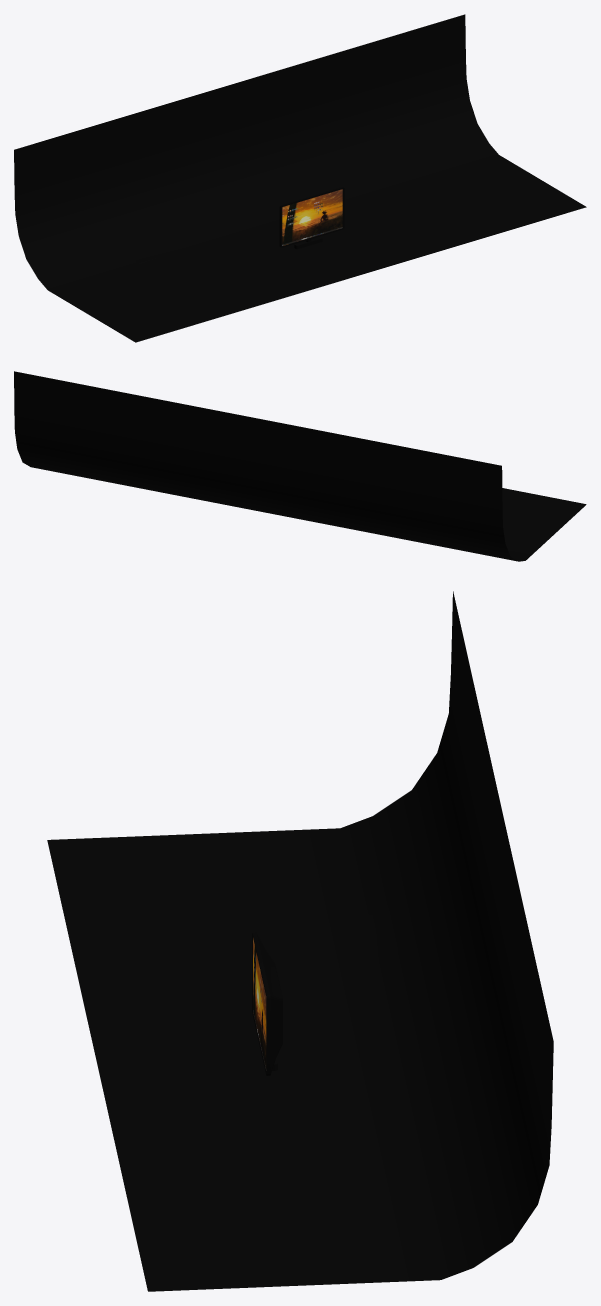
Rendered from monitor.glb.
The picture shows the model from 3 angles, top to bottom: view 1: azimuth 30°, elevation 25°; view 2: azimuth 150°, elevation 25°; view 3: azimuth 270°, elevation 25°; orthographic projection. The views are drawn at different scales.
Parts seen in each view (by area): view 1: Object_4, Object_1, Object_0; view 2: Object_4; view 3: Object_4, Object_0, Object_1.
Boxes of the visible parts, left/top/right/bottom form: Object_4: left=14, top=14, right=586, bottom=342; Object_1: left=282, top=189, right=342, bottom=245; Object_0: left=279, top=187, right=344, bottom=249; Object_4: left=14, top=371, right=586, bottom=561; Object_4: left=47, top=591, right=553, bottom=1291; Object_0: left=252, top=932, right=282, bottom=1075; Object_1: left=253, top=938, right=266, bottom=1070.
Size of the model in its own units: 0.8 by 0.1862 by 0.366.
Materials: 3 (1 with a texture image).
